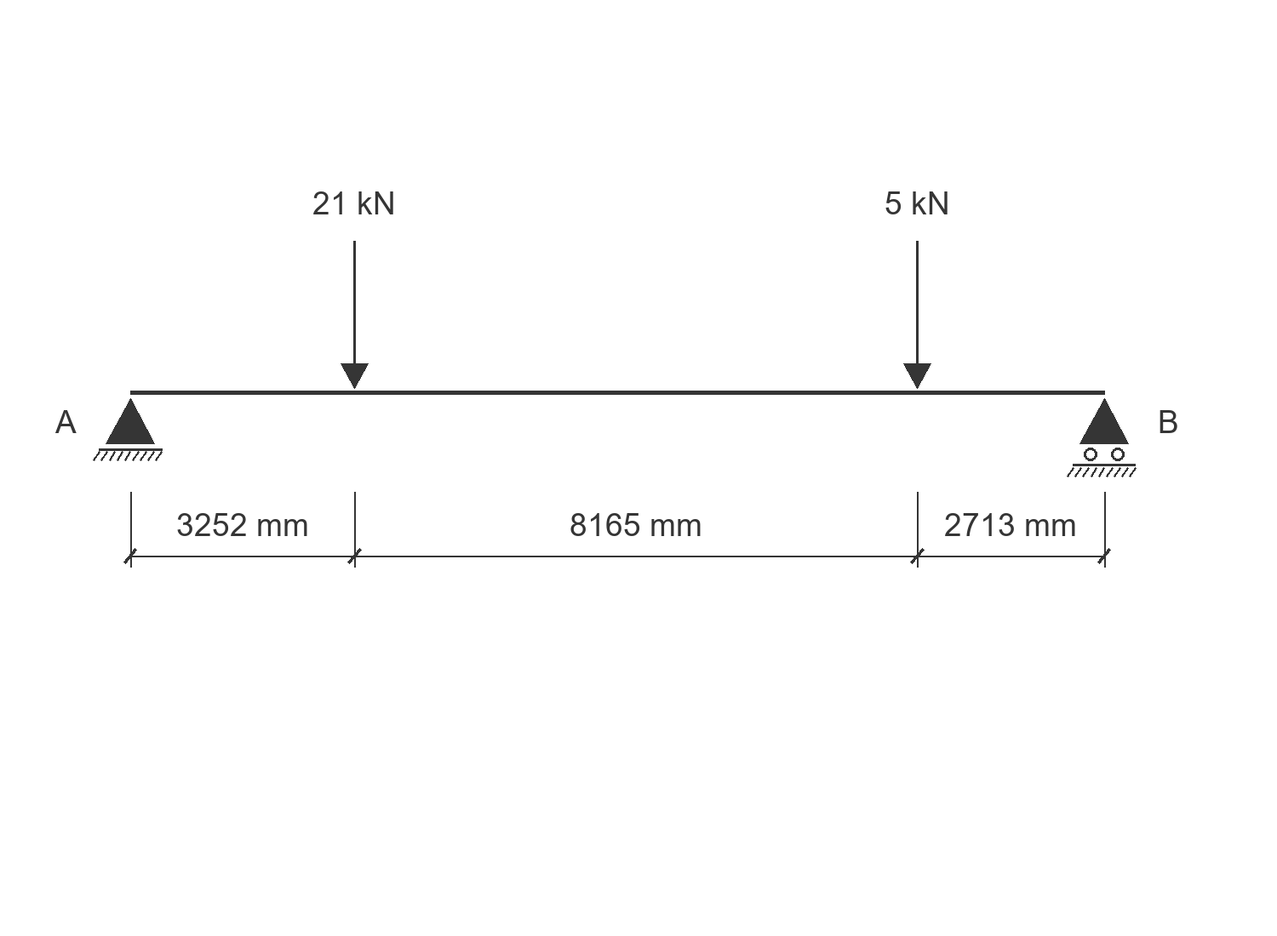pin_support: (93, 398, 163, 461)
point_load: (341, 241, 369, 389), (903, 241, 931, 389)
roller_support: (1067, 398, 1137, 477)
